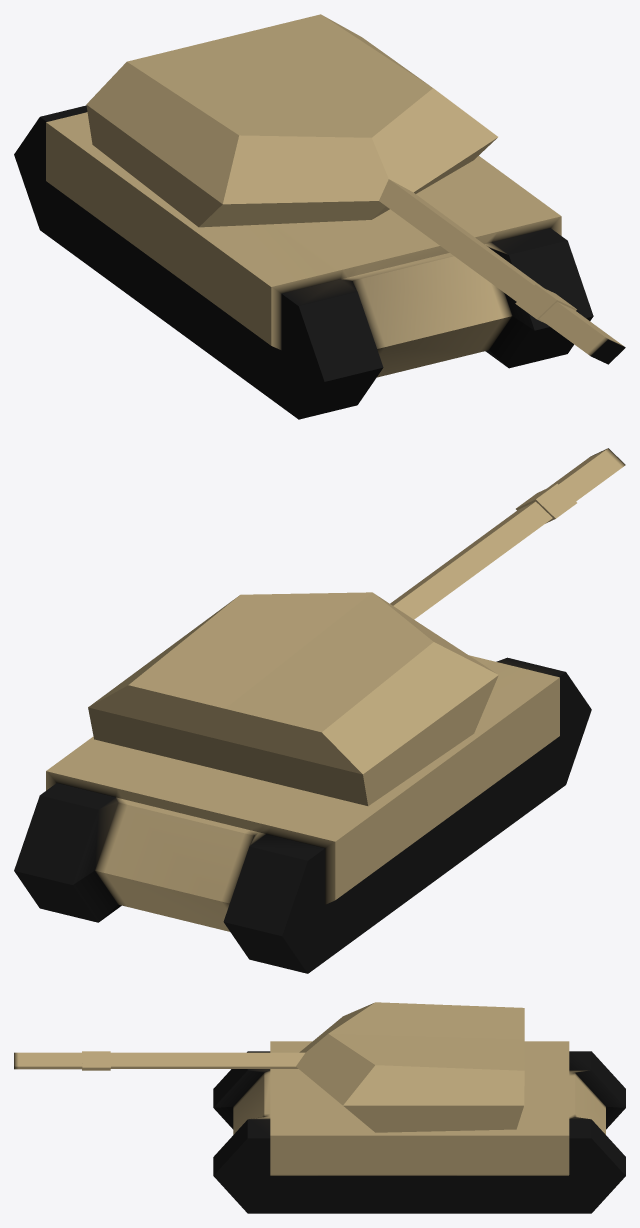
The model's file is tank.fbx.
The picture shows the model from 3 angles, top to bottom: view 1: azimuth 30°, elevation 25°; view 2: azimuth 150°, elevation 25°; view 3: azimuth 270°, elevation 25°; orthographic projection. The views are drawn at different scales.
Visible parts, largest first — view 1: Cube, Cube.001; view 2: Cube, Cube.001; view 3: Cube, Cube.001.
Boxes of the visible parts, box(x1,y1,x2,y2) form: Cube: box(14, 105, 593, 419); Cube.001: box(86, 14, 625, 364); Cube: box(14, 518, 591, 973); Cube.001: box(88, 448, 625, 805); Cube: box(213, 1041, 625, 1213); Cube.001: box(14, 1002, 524, 1132).
Bounding box in the file's own units: 130 × 87.36 × 356.
